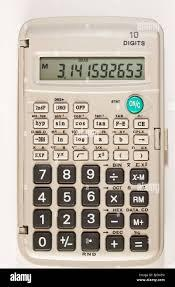Calculator: (12, 10, 172, 267)
